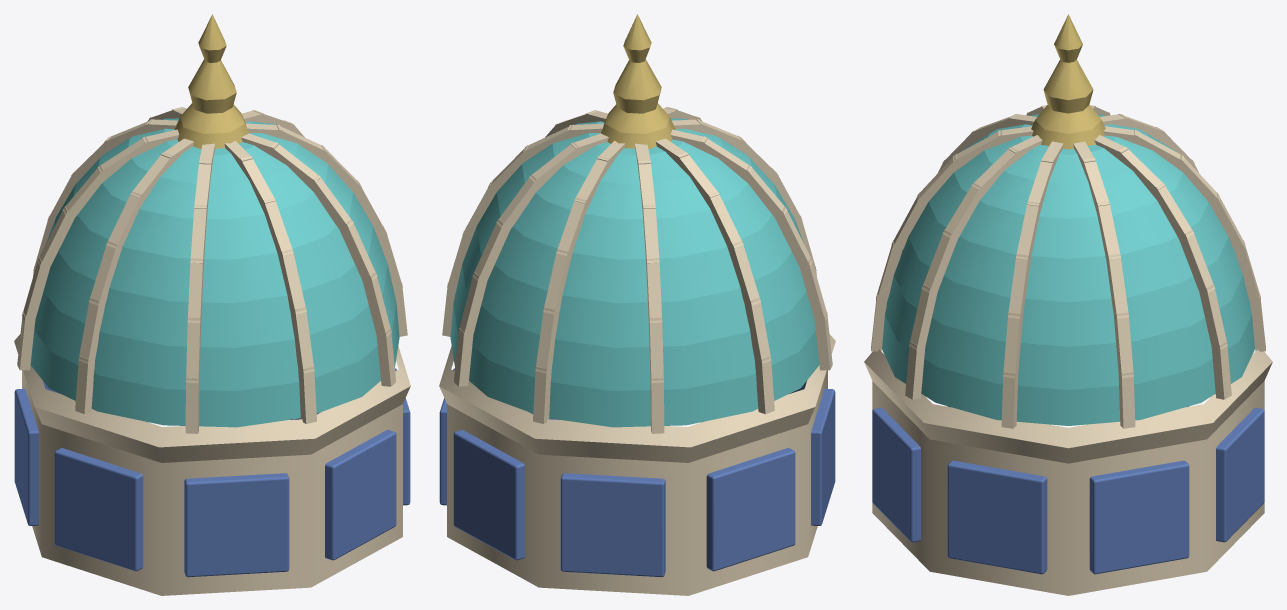
File: minaret-cap-b0f37861.glb
3 renders of one model, left to right at view 1: azimuth 30°, elevation 25°; view 2: azimuth 150°, elevation 25°; view 3: azimuth 270°, elevation 25°, orthographic.
Visible parts, largest first — view 1: minaret-cap; view 2: minaret-cap; view 3: minaret-cap.
Boxes of the visible parts, x1,y1,x2,y2 form: minaret-cap: (14, 14, 410, 595); minaret-cap: (439, 14, 835, 595); minaret-cap: (864, 14, 1272, 595).
Size of the model in its own units: 1.96 by 2.64 by 1.96.
